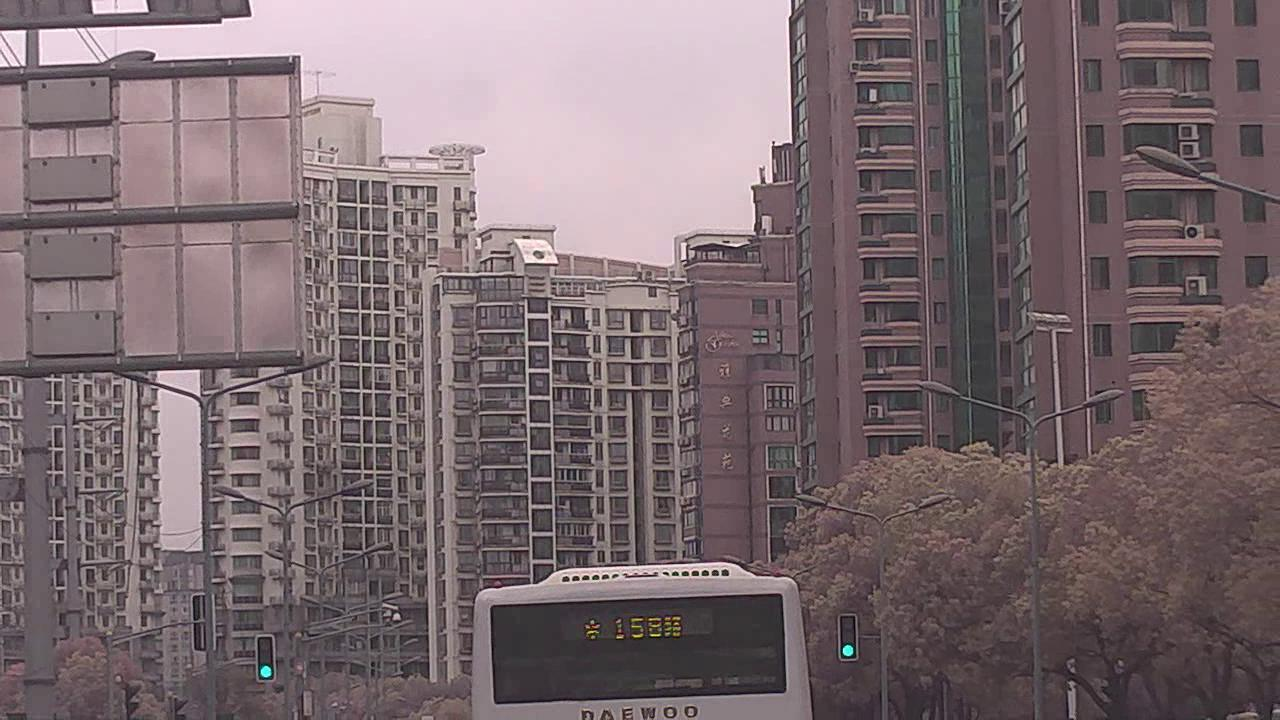traffic_light: (838, 613, 860, 660), (256, 634, 277, 681)
